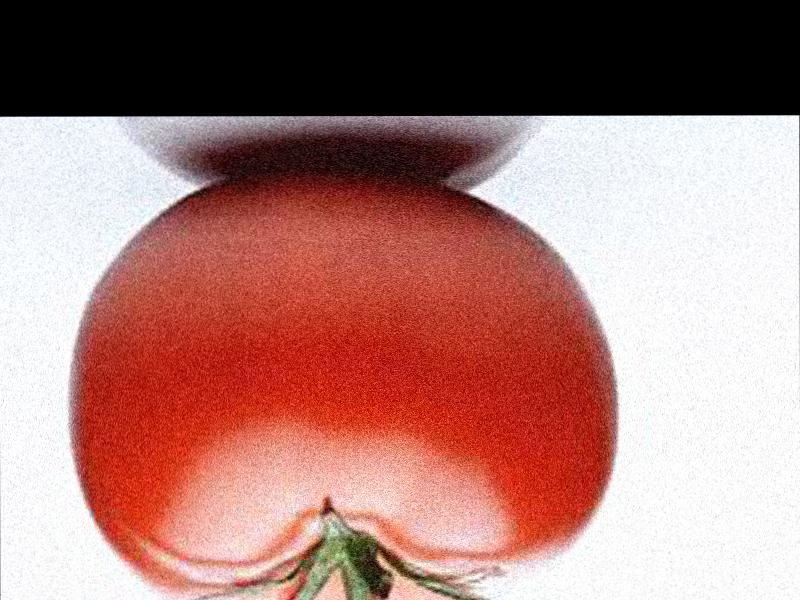Tomato: (67, 176, 615, 600)
